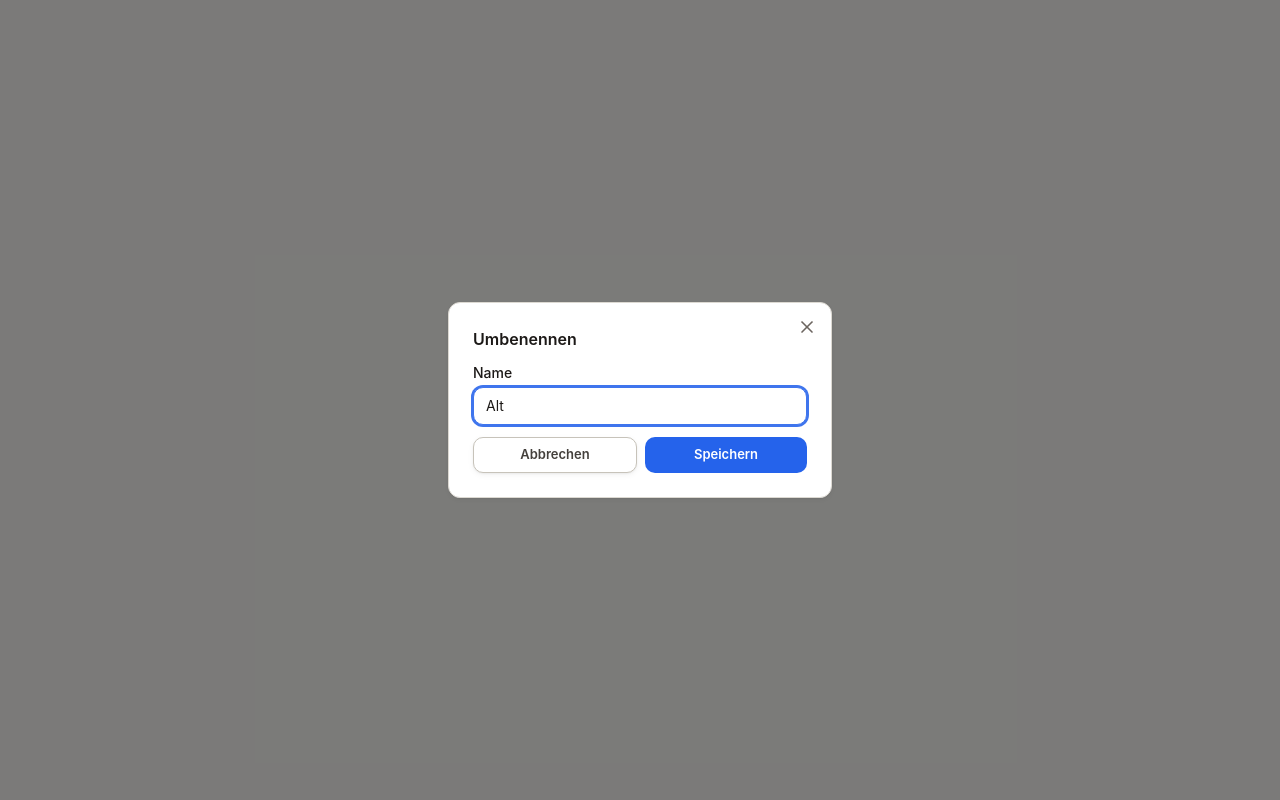
InputModal › zeigt einen Fehler erst zusammen mit dem wieder bedienbaren Speichern
Click the button "Speichern": [726, 455] box [645,437,807,473]
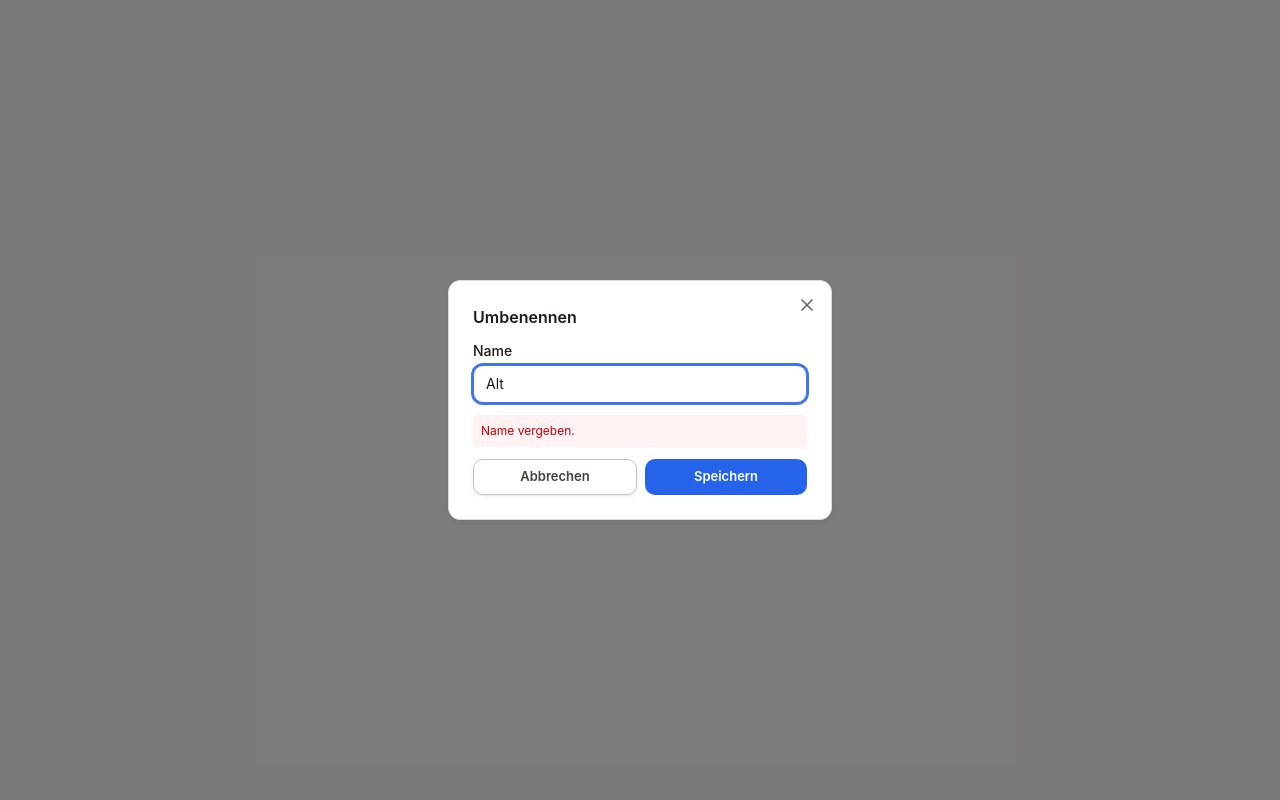
Now the message reads "Name vergeben.", box [481,423,575,438]
Click the button "Speichern": [726, 477] box [645,459,807,495]
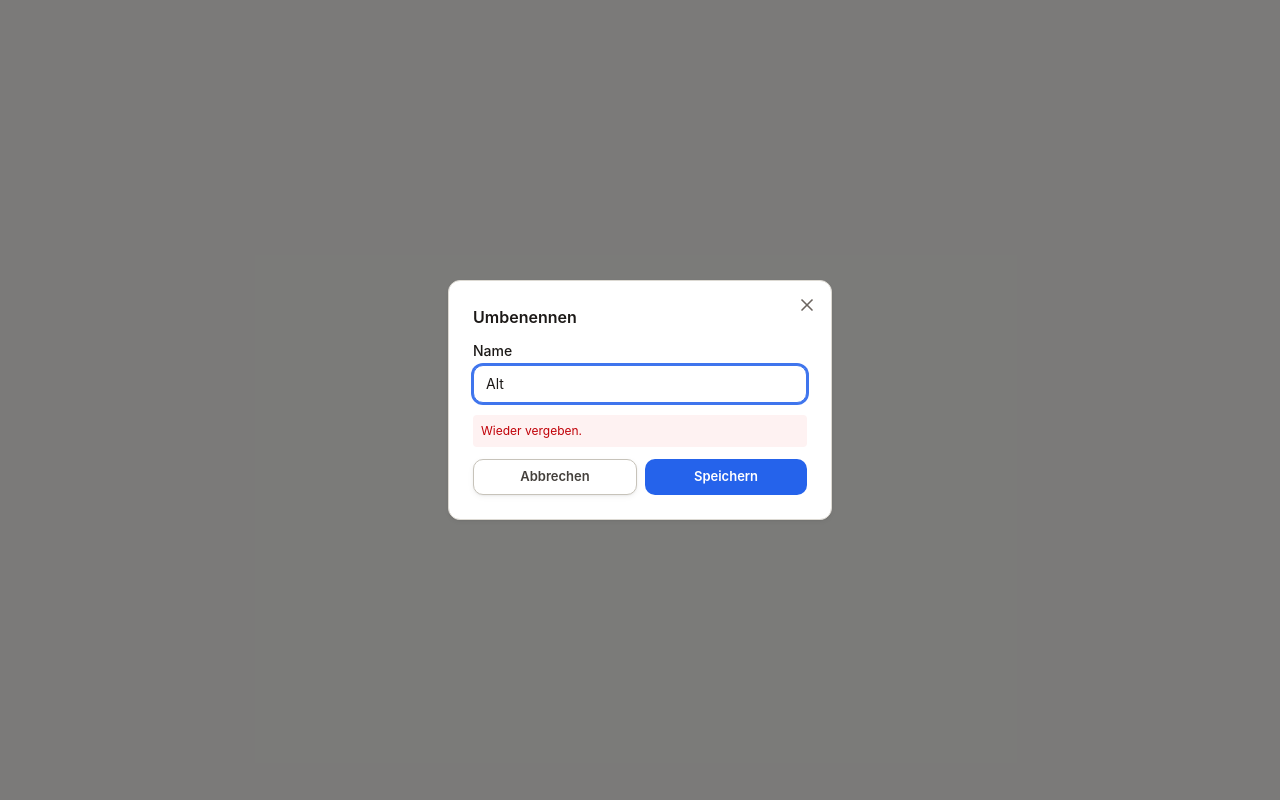
Now the message reads "Wieder vergeben.", box [481,423,582,438]
